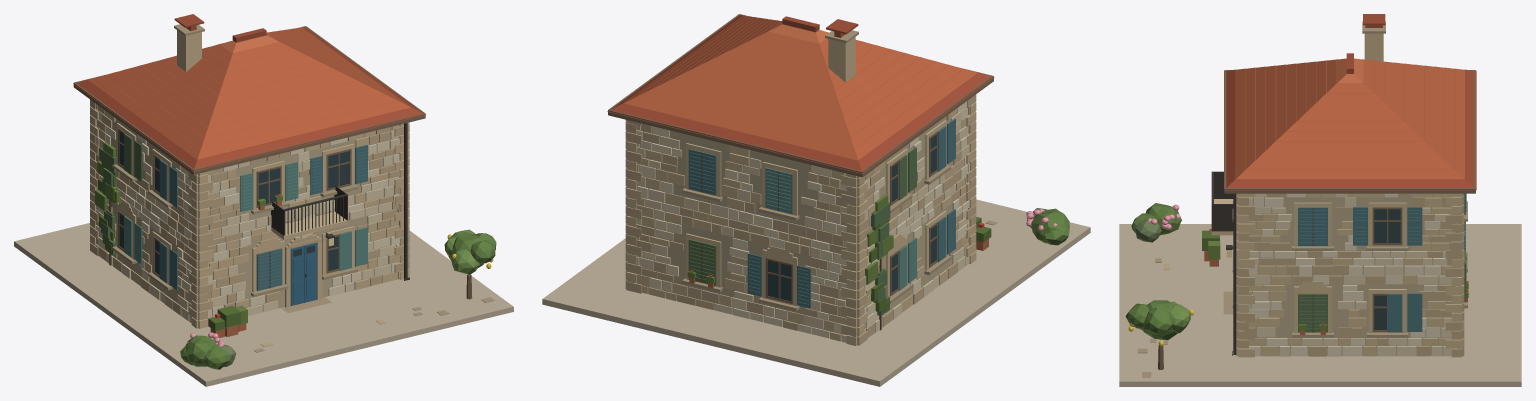
Rendered from ev-tas-balkonlu.glb.
The picture shows the model from 3 angles, left to right: view 1: azimuth 30°, elevation 25°; view 2: azimuth 150°, elevation 25°; view 3: azimuth 270°, elevation 25°; orthographic projection. The views are drawn at different scales.
Visible parts, largest first — view 1: zemin, kiremit1, tas2, tas3, tas1, harc, kiremit4, tas4, ahsap, kepenk, kepenk2, cam (+10 smaller); view 2: kiremit1, zemin, tas2, tas3, harc, tas4, tas1, kiremit4, ahsap, kepenk, kepenk2, tas_koyu (+7 smaller); view 3: zemin, kiremit1, tas2, harc, tas3, kiremit4, tas1, tas4, kepenk, ahsap, yaprak2, demir (+7 smaller).
Part boxes in pixels (x1,y1,x2,y2): zemin: [14, 223, 513, 386]; kiremit1: [88, 27, 410, 159]; tas2: [90, 30, 409, 328]; tas3: [90, 99, 409, 346]; tas1: [93, 126, 407, 322]; harc: [99, 118, 398, 320]; kiremit4: [73, 14, 425, 171]; tas4: [92, 109, 403, 317]; ahsap: [73, 26, 425, 290]; kepenk: [159, 145, 367, 290]; kepenk2: [124, 162, 367, 270]; cam: [119, 131, 349, 274]; kiremit1: [624, 15, 977, 160]; zemin: [542, 199, 1090, 386]; tas2: [625, 37, 976, 345]; tas3: [625, 94, 976, 345]; harc: [637, 114, 968, 336]; tas4: [628, 101, 974, 338]; tas1: [627, 111, 974, 342]; kiremit4: [607, 15, 994, 173]; ahsap: [608, 14, 993, 303]; kepenk: [688, 118, 955, 308]; kepenk2: [765, 167, 916, 290]; tas_koyu: [682, 30, 997, 311]; zemin: [1119, 224, 1521, 386]; kiremit1: [1235, 59, 1464, 179]; tas2: [1211, 33, 1464, 357]; harc: [1249, 193, 1451, 355]; tas3: [1163, 193, 1464, 357]; kiremit4: [1224, 14, 1476, 190]; tas1: [1237, 193, 1463, 356]; tas4: [1237, 193, 1462, 356]; kepenk: [1298, 193, 1466, 332]; ahsap: [1224, 70, 1475, 331]; yaprak2: [1125, 203, 1181, 340]; demir: [1211, 171, 1236, 355].
Size of the model in its own units: 12.62 by 9.78 by 13.5.
